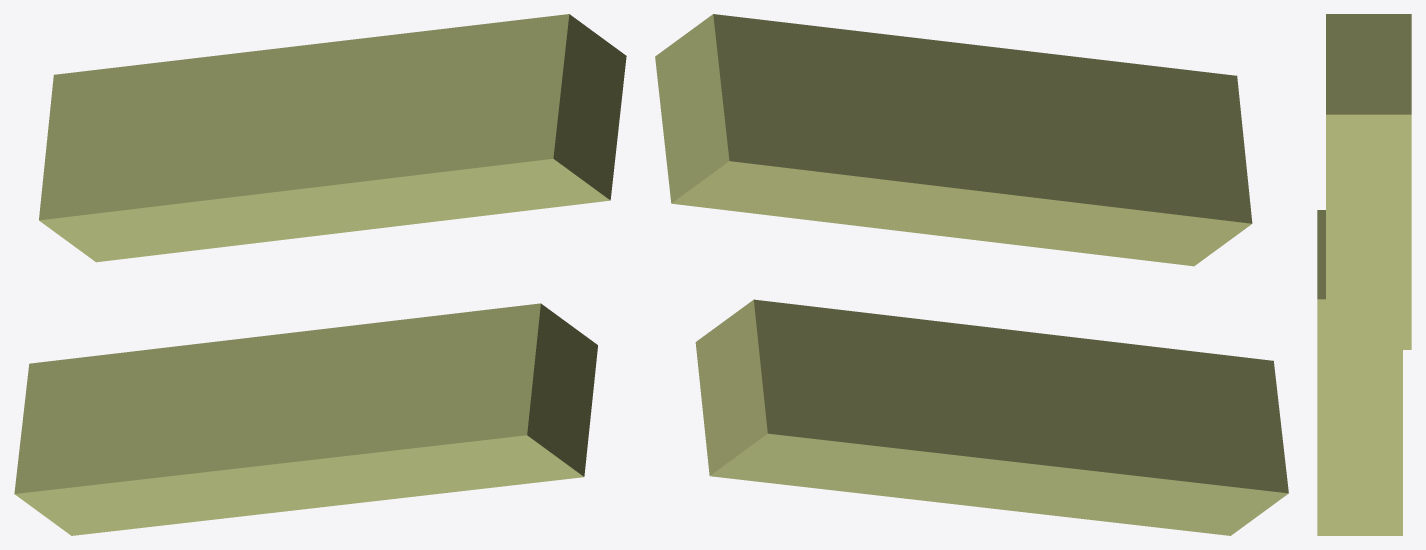
3 renders of one model, left to right at view 1: azimuth 30°, elevation 25°; view 2: azimuth 150°, elevation 25°; view 3: azimuth 270°, elevation 25°, orthographic. The views are drawn at different scales.
Visible parts, largest first — view 1: 0_3_0_2_1_2_3_1_2; view 2: 0_3_0_2_1_2_3_1_2; view 3: 0_3_0_2_1_2_3_1_2.
Part boxes in pixels (box(x1,y1,x2,y2)): 0_3_0_2_1_2_3_1_2: box(14, 14, 626, 535); 0_3_0_2_1_2_3_1_2: box(655, 14, 1288, 535); 0_3_0_2_1_2_3_1_2: box(1317, 14, 1411, 535).
Size of the model in its own units: 50.9 by 40.8 by 9.9.
